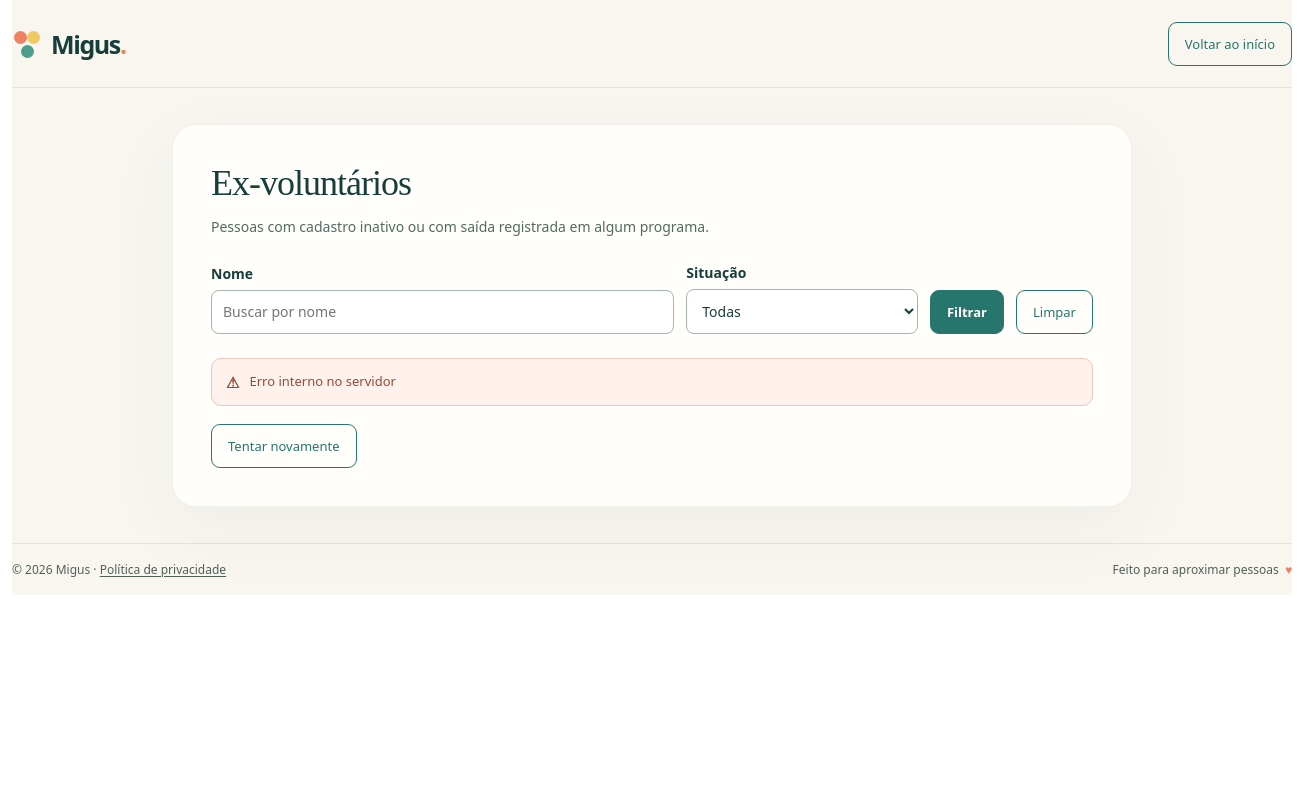
Test case: mostra o erro e permite tentar novamente
expect the message shows "Erro interno no servidor": met, box [250,372,396,390]
Click the button "Tentar novamente": (284, 446) [211,424,356,468]
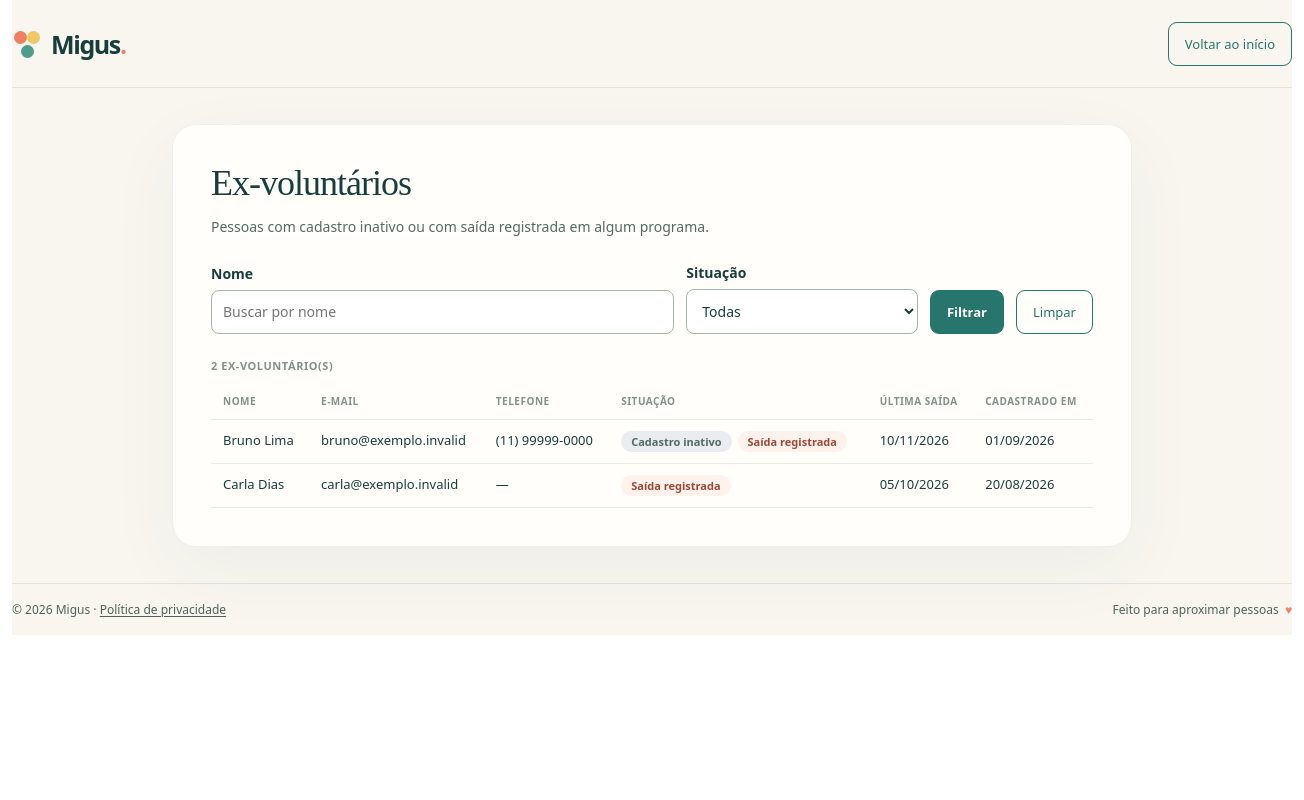
expect the row "Bruno Lima" is shown: met, box [211,419,1093,463]
expect the message "⚠ Erro interno no servidor" is gone: met
